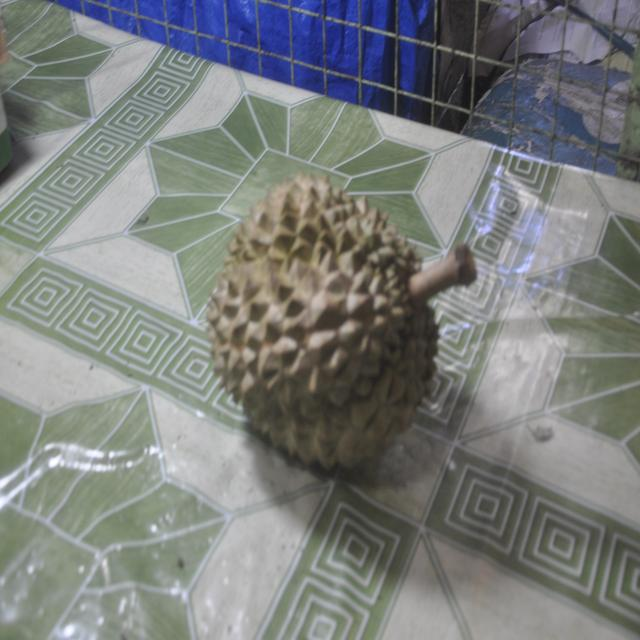mature: (207, 174, 476, 485)
